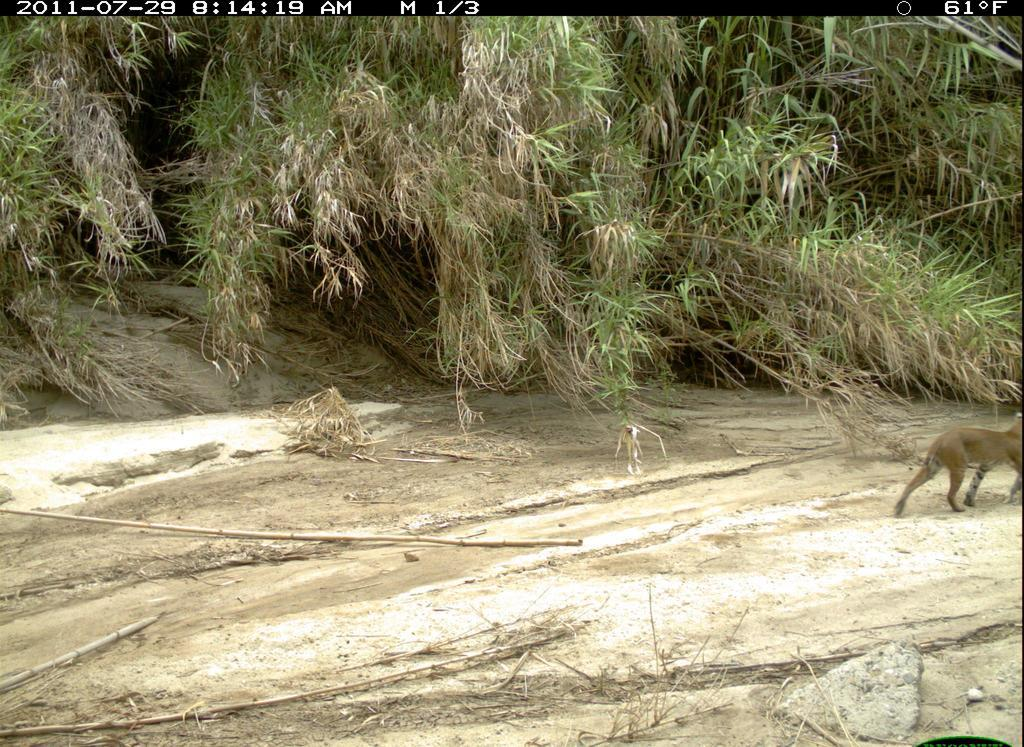bobcat: (889, 415, 1023, 521)
